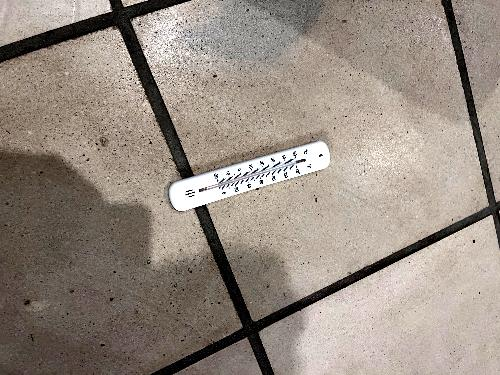thermo: (164, 139, 334, 215)
